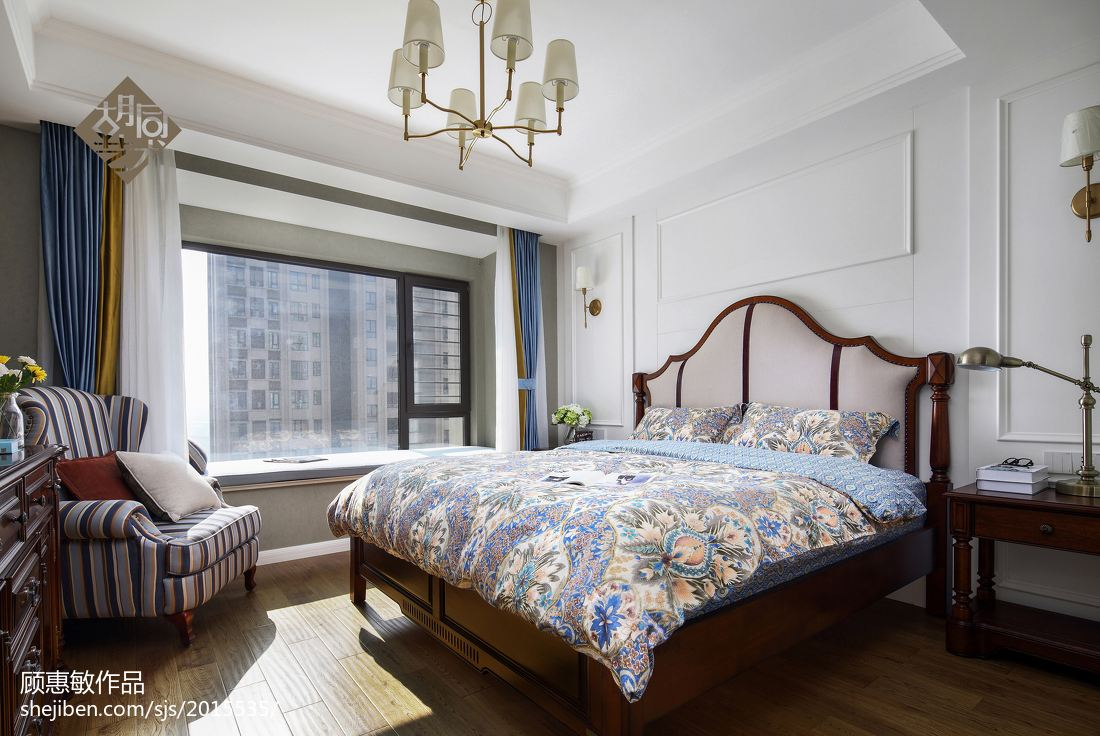床: (335, 445, 923, 701)
枕头: (621, 399, 887, 463)
灯: (382, 6, 580, 176), (946, 341, 1100, 488), (1054, 103, 1100, 238)
